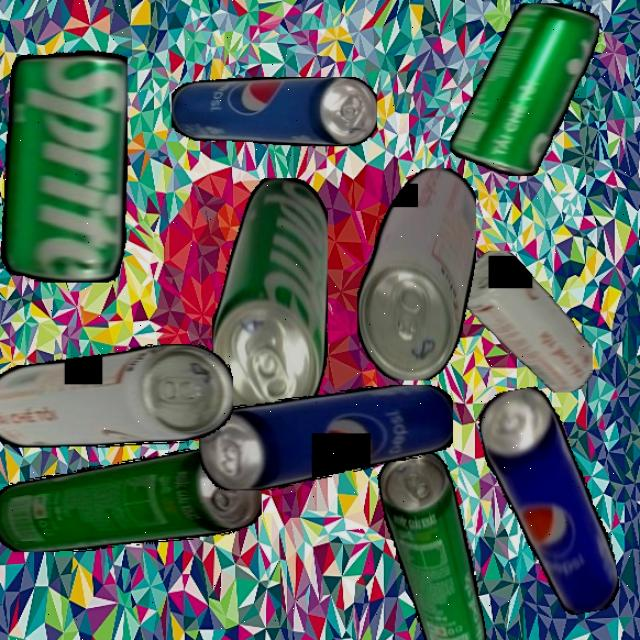debris: (475, 378, 622, 625), (0, 50, 128, 282), (211, 177, 328, 423), (0, 449, 262, 552), (199, 384, 453, 490), (449, 3, 599, 176), (356, 167, 476, 381), (0, 344, 233, 448), (374, 444, 490, 640), (458, 250, 592, 392), (171, 77, 377, 146)
